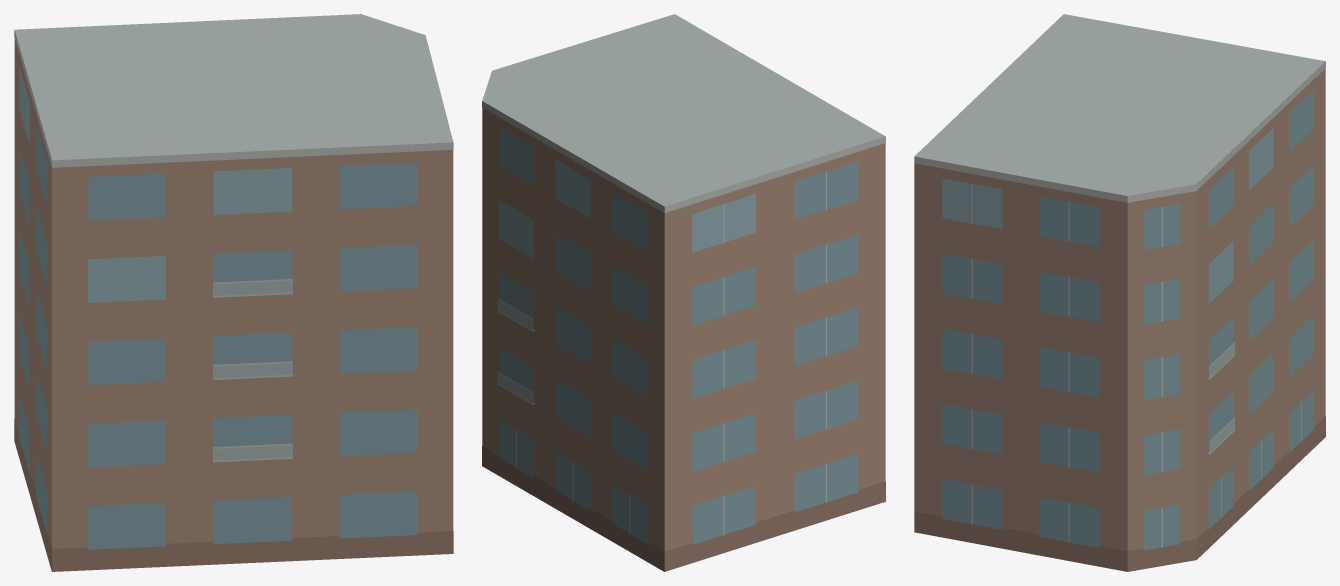
File: survey-upis-32955881.glb
3 views of the same model, side by side, from view 1: azimuth 30°, elevation 25°; view 2: azimuth 150°, elevation 25°; view 3: azimuth 270°, elevation 25° (orthographic). The views are drawn at different scales.
Visible parts, largest first — view 1: survey-upis-32955881.tmp; view 2: survey-upis-32955881.tmp; view 3: survey-upis-32955881.tmp.
Part boxes in pixels (x1,y1,x2,y2): survey-upis-32955881.tmp: (14, 14, 453, 571); survey-upis-32955881.tmp: (482, 14, 885, 571); survey-upis-32955881.tmp: (914, 14, 1325, 571).
Size of the model in its own units: 14.14 by 13.6 by 13.51.
